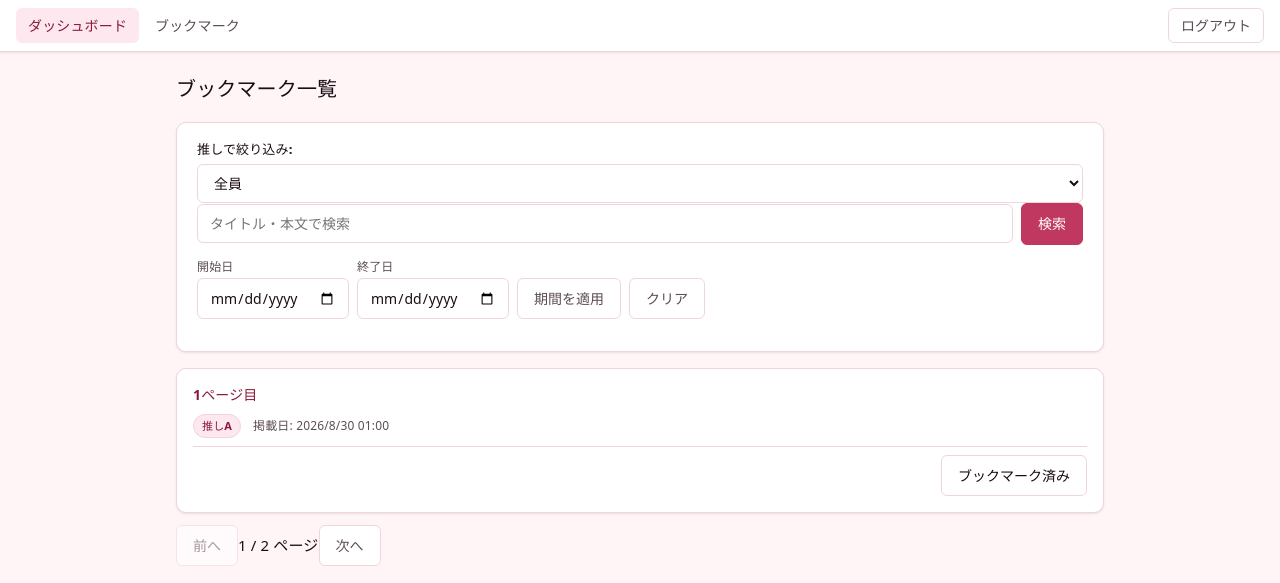
Test: BookmarkPage › 次のページへ遷移できる
The width and height of the screenshot is (1280, 583).
Expected: the link "1ページ目" is shown, [193,385,258,404]
Click the button with aria-label "次のページ". click: (350,545)
box: [318,525,380,566]
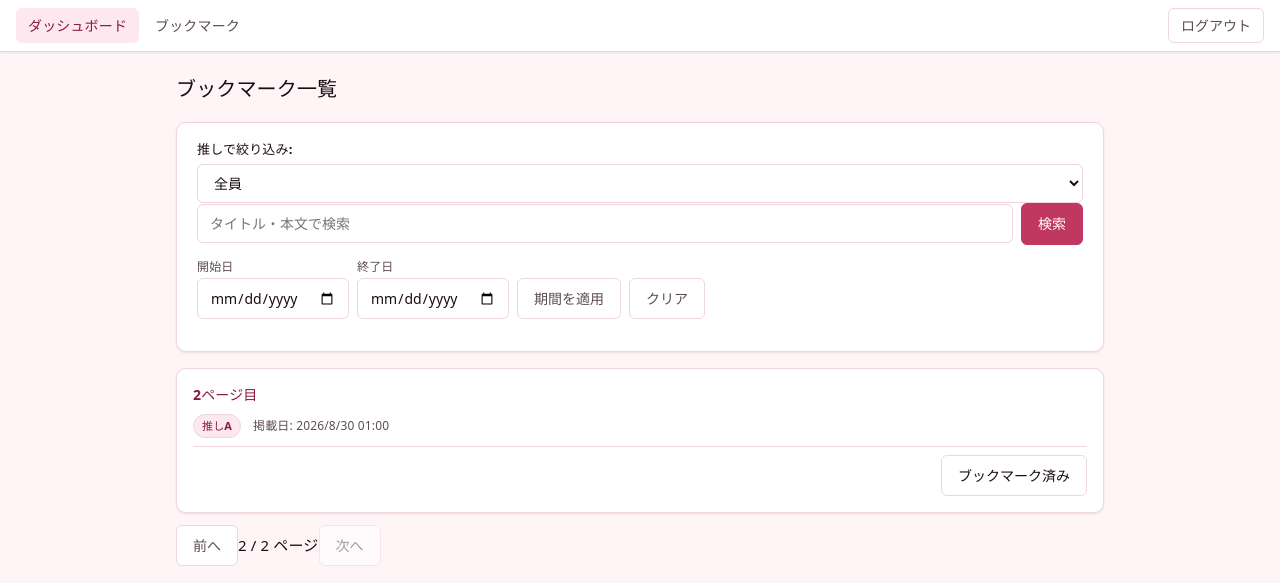
Now the link "2ページ目" is shown, box [193,385,258,404]
